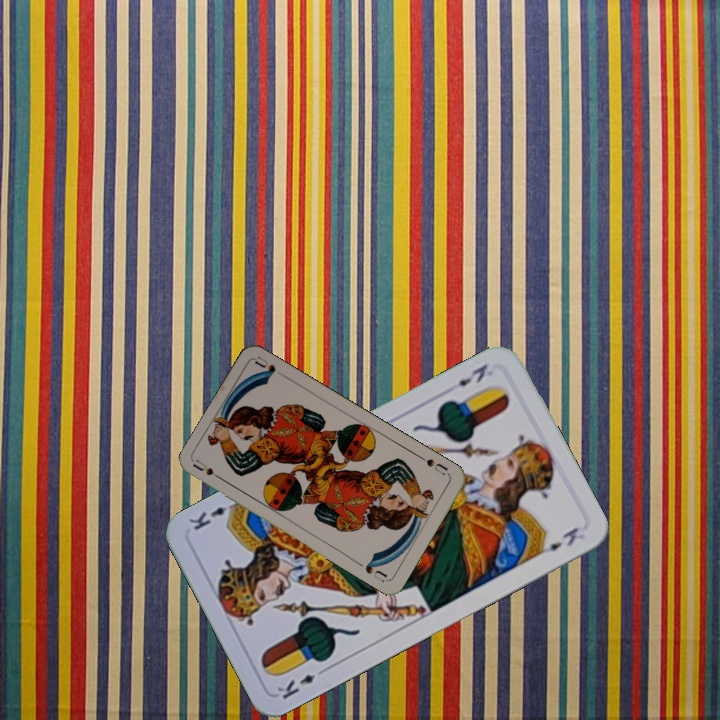EK: (273, 663, 330, 702), (453, 359, 491, 389)
SU: (190, 456, 228, 484), (415, 452, 452, 478)
